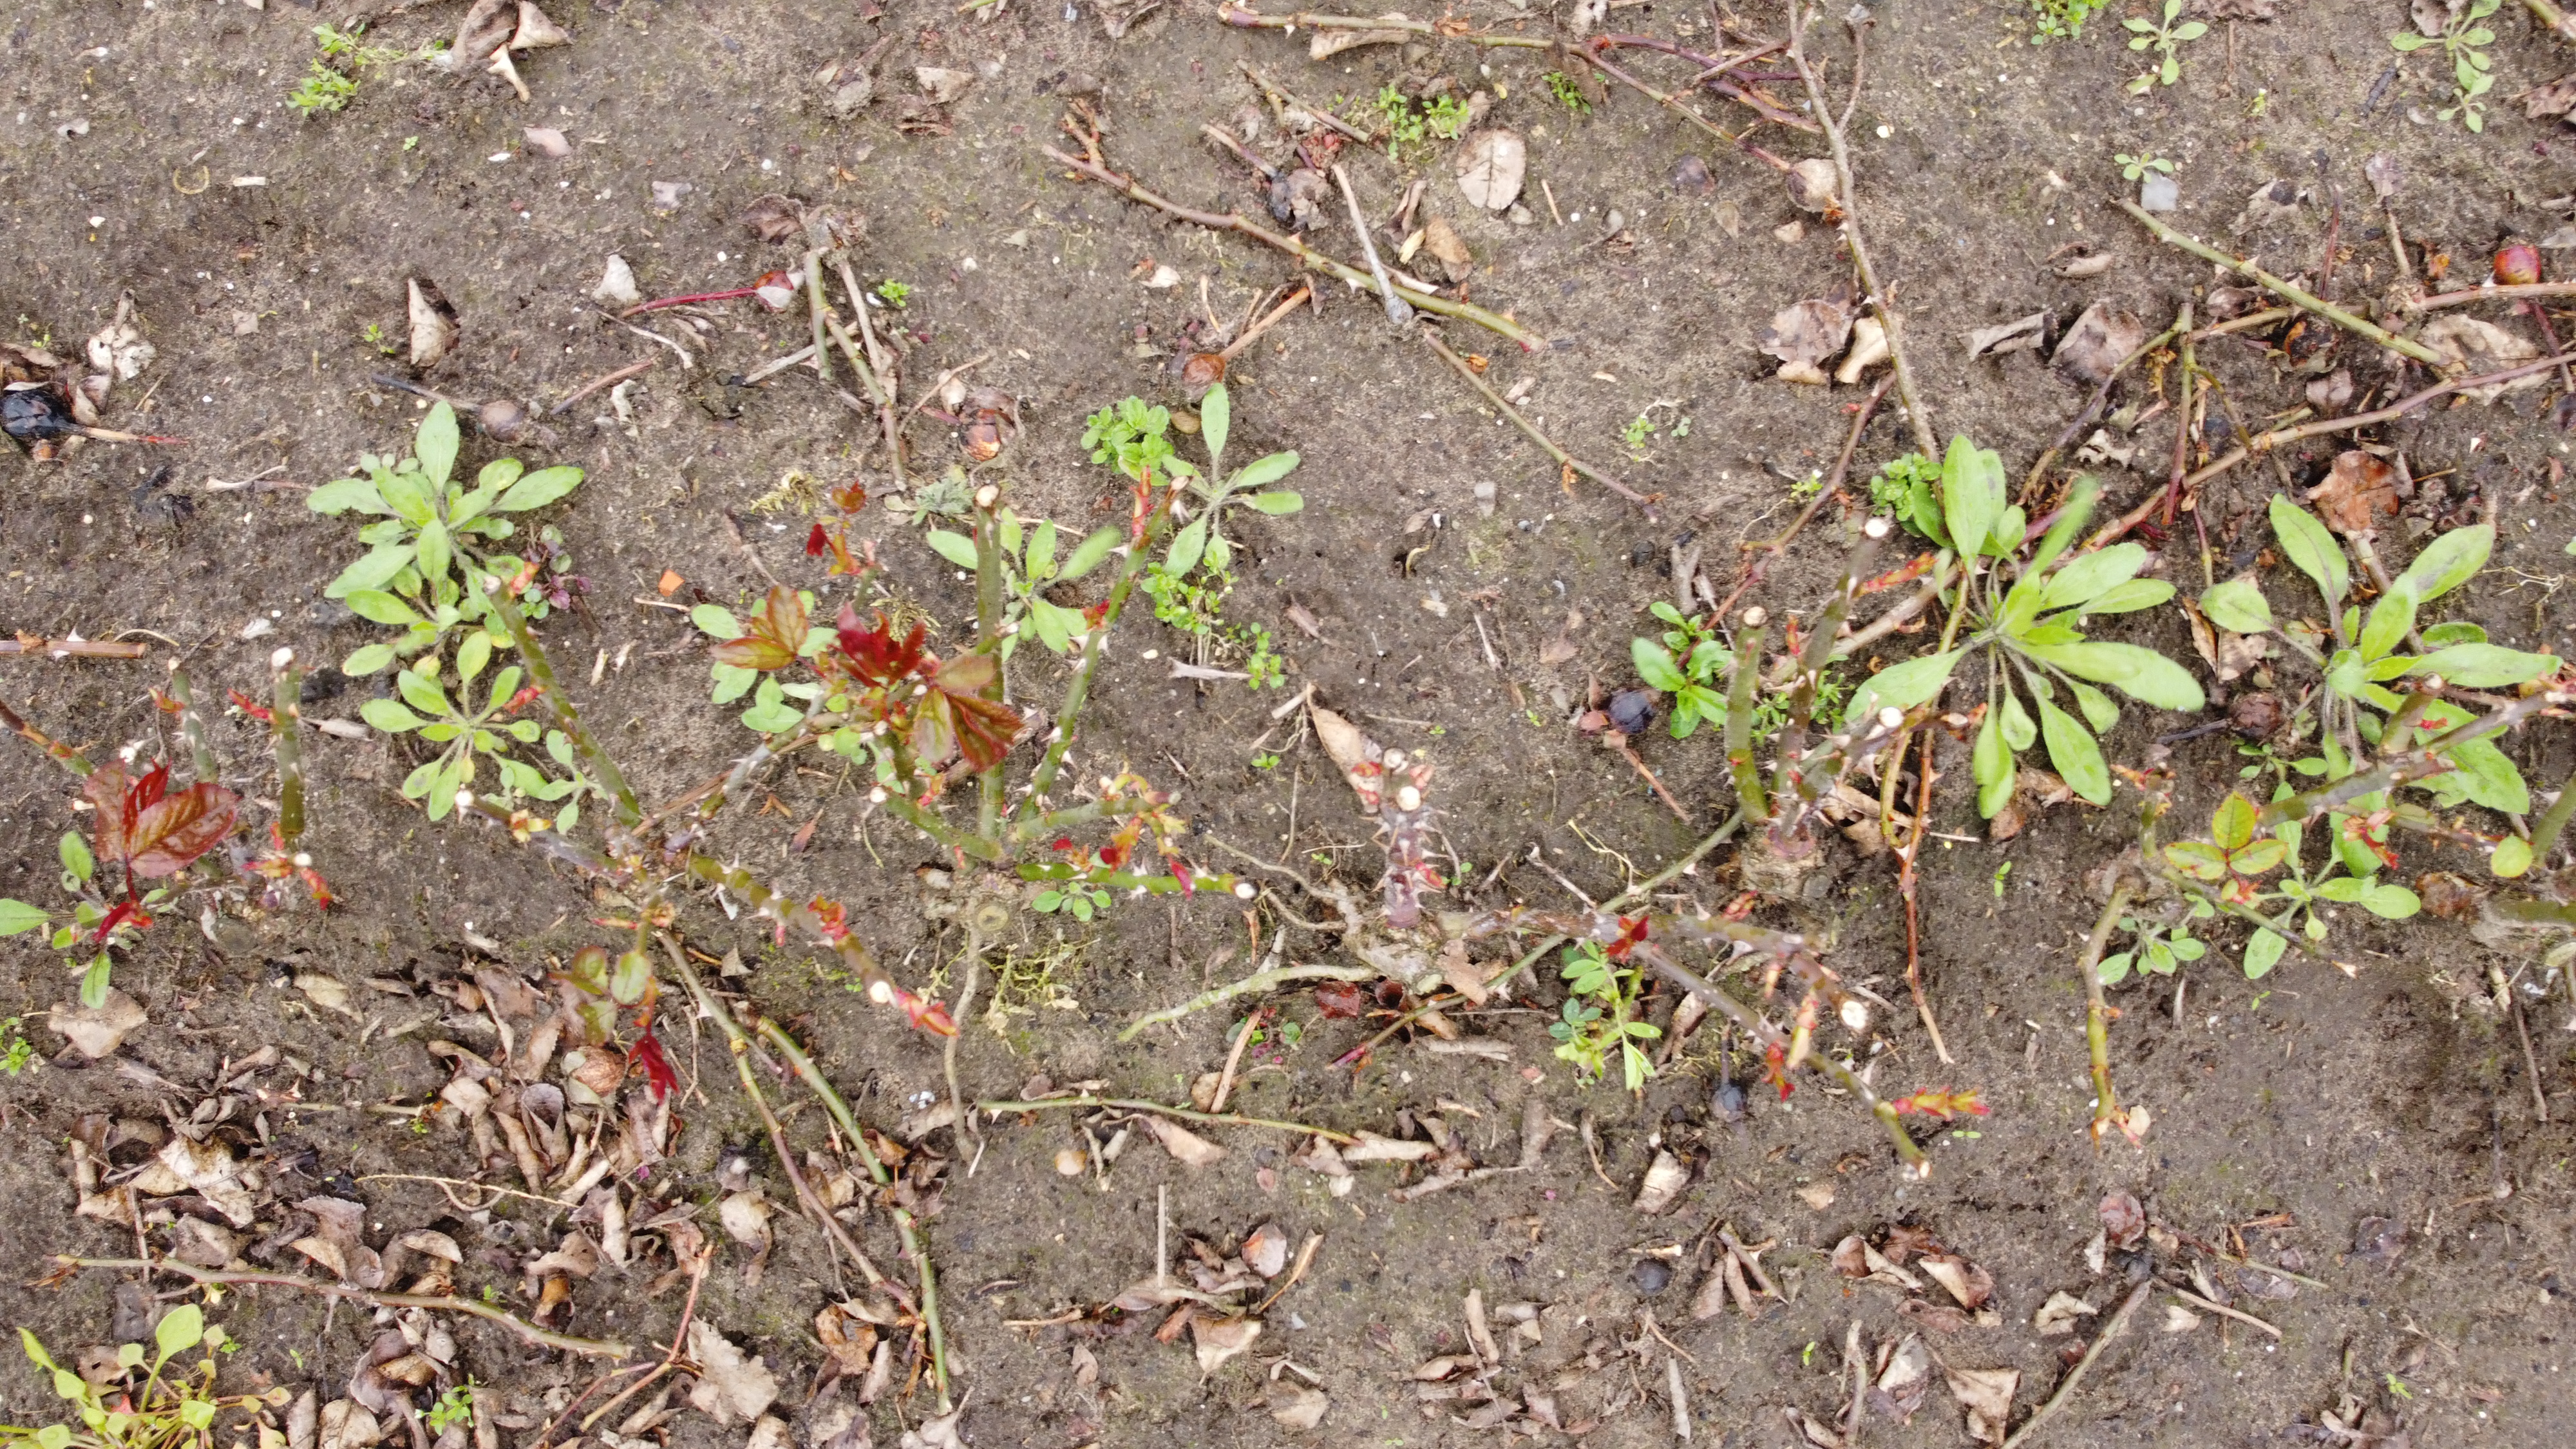Rose: (870, 771, 1253, 901), (1729, 600, 1868, 893)
Weed: (2213, 474, 2537, 814), (1884, 444, 2189, 794), (311, 426, 561, 639), (326, 644, 612, 803), (0, 1304, 228, 1449), (1150, 386, 1316, 556), (985, 504, 1099, 658), (2254, 833, 2417, 939)
